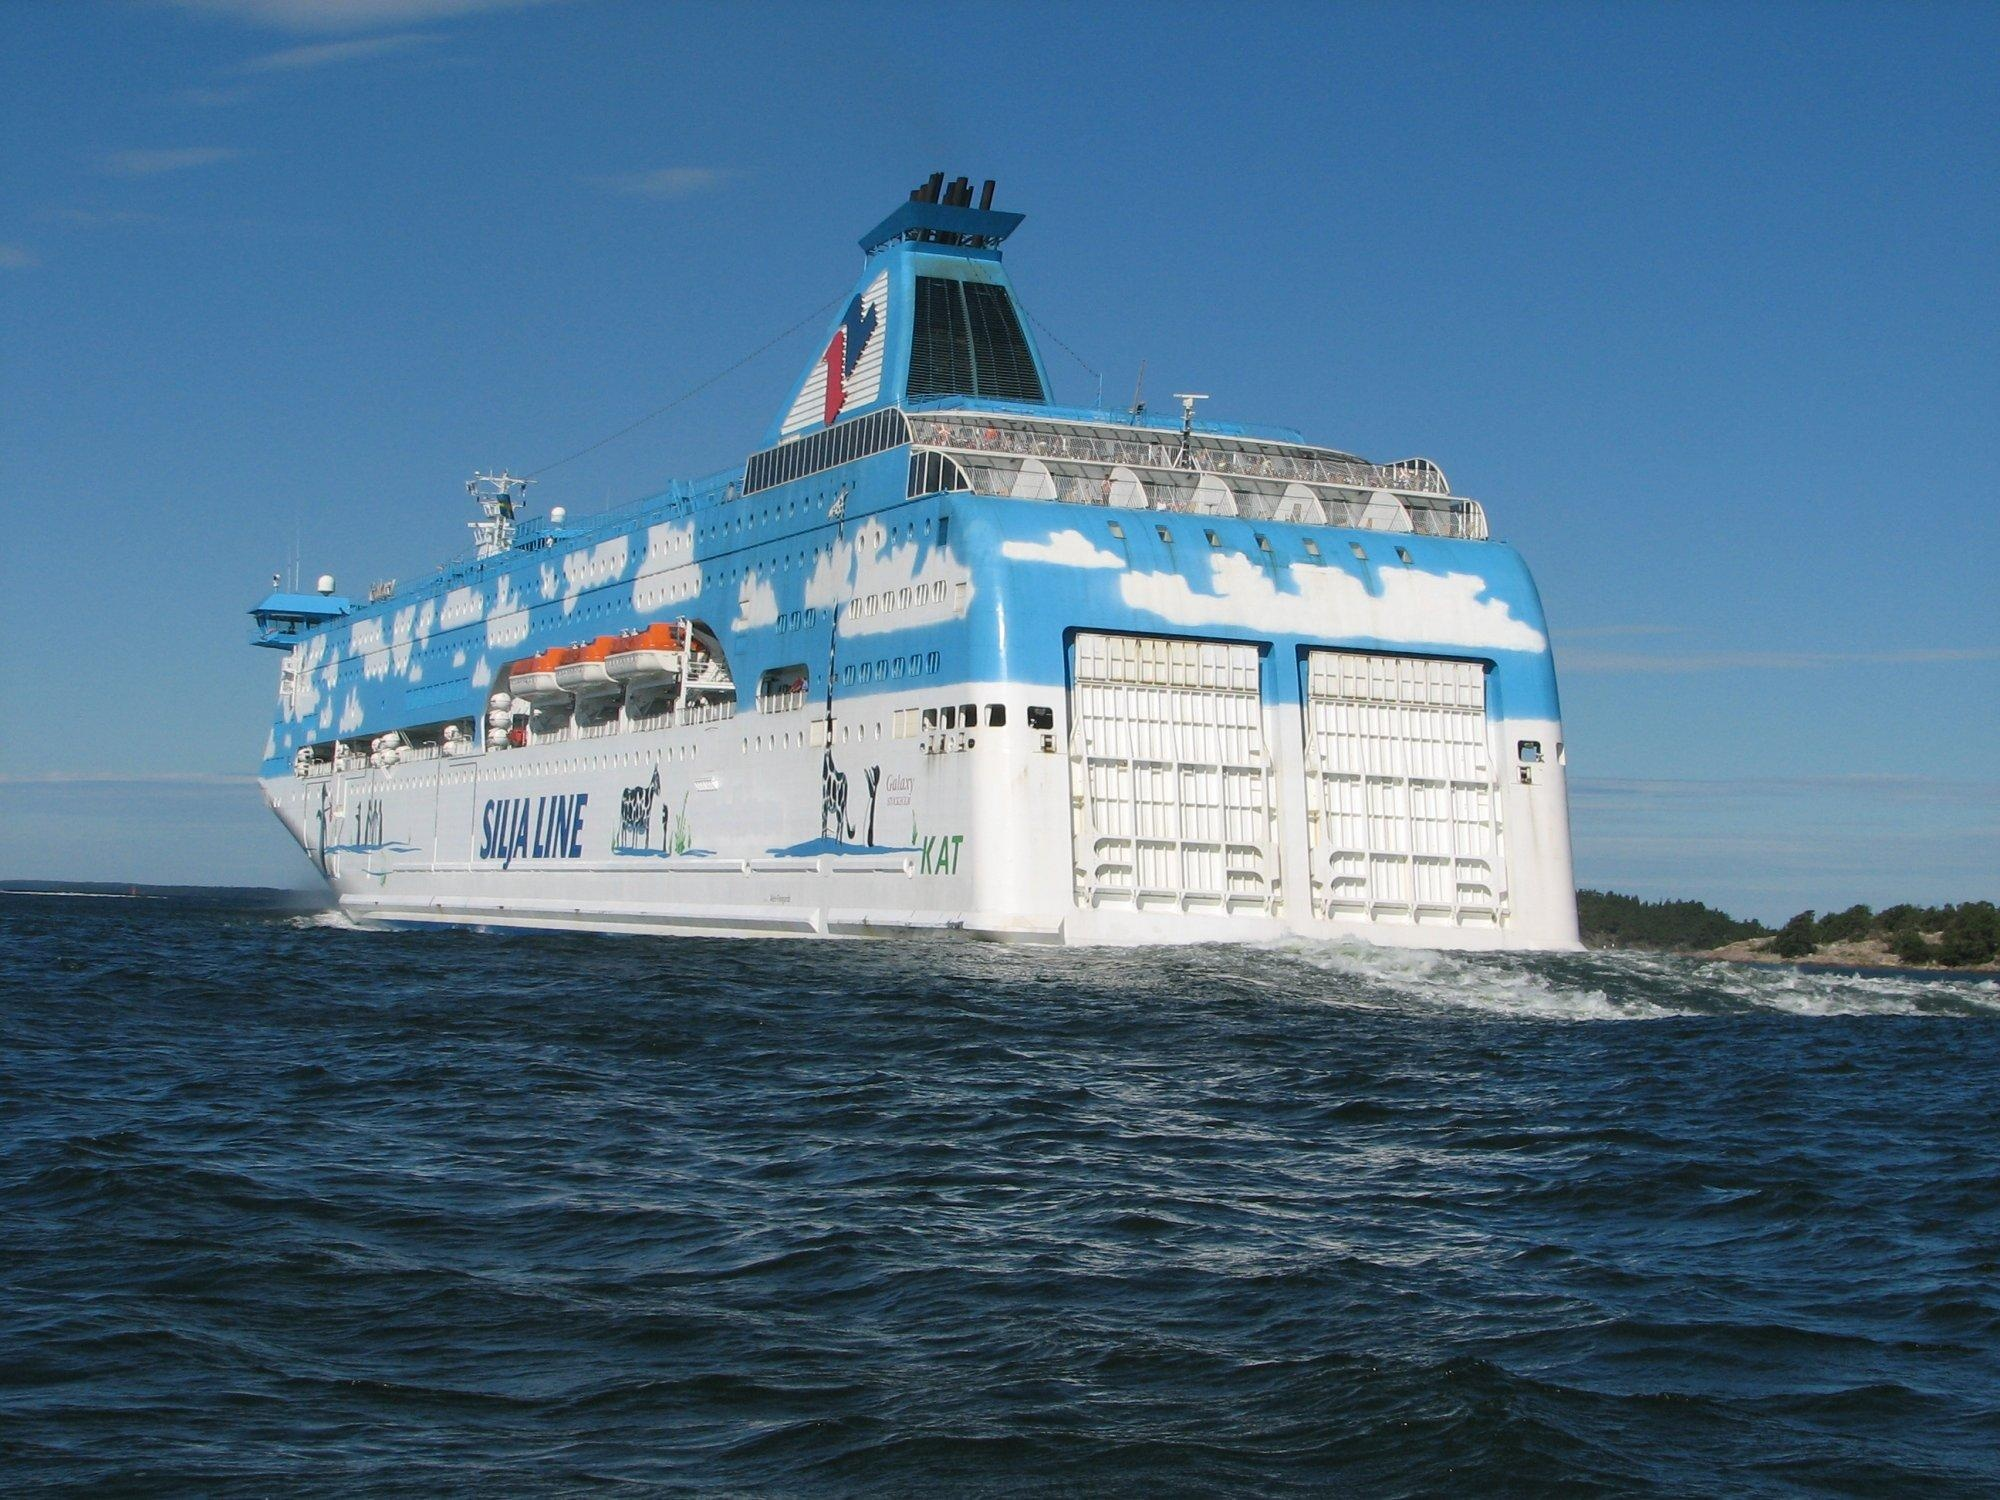youlun: (235, 161, 1657, 952)
